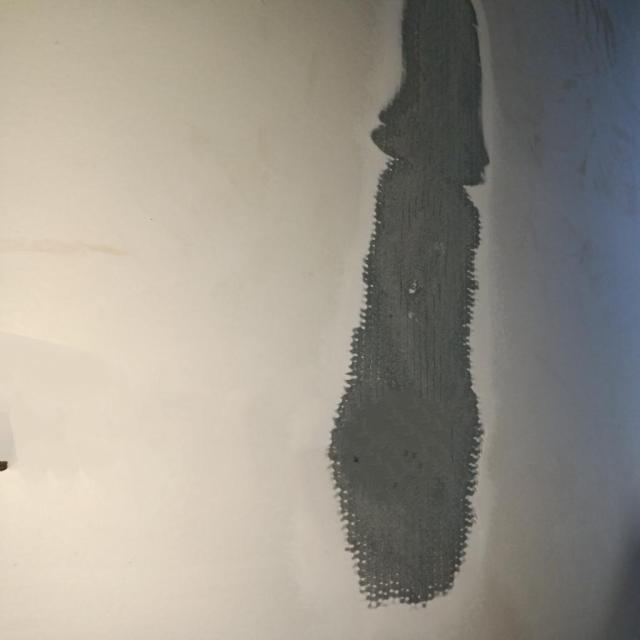corrosion: (326, 1, 490, 611)
